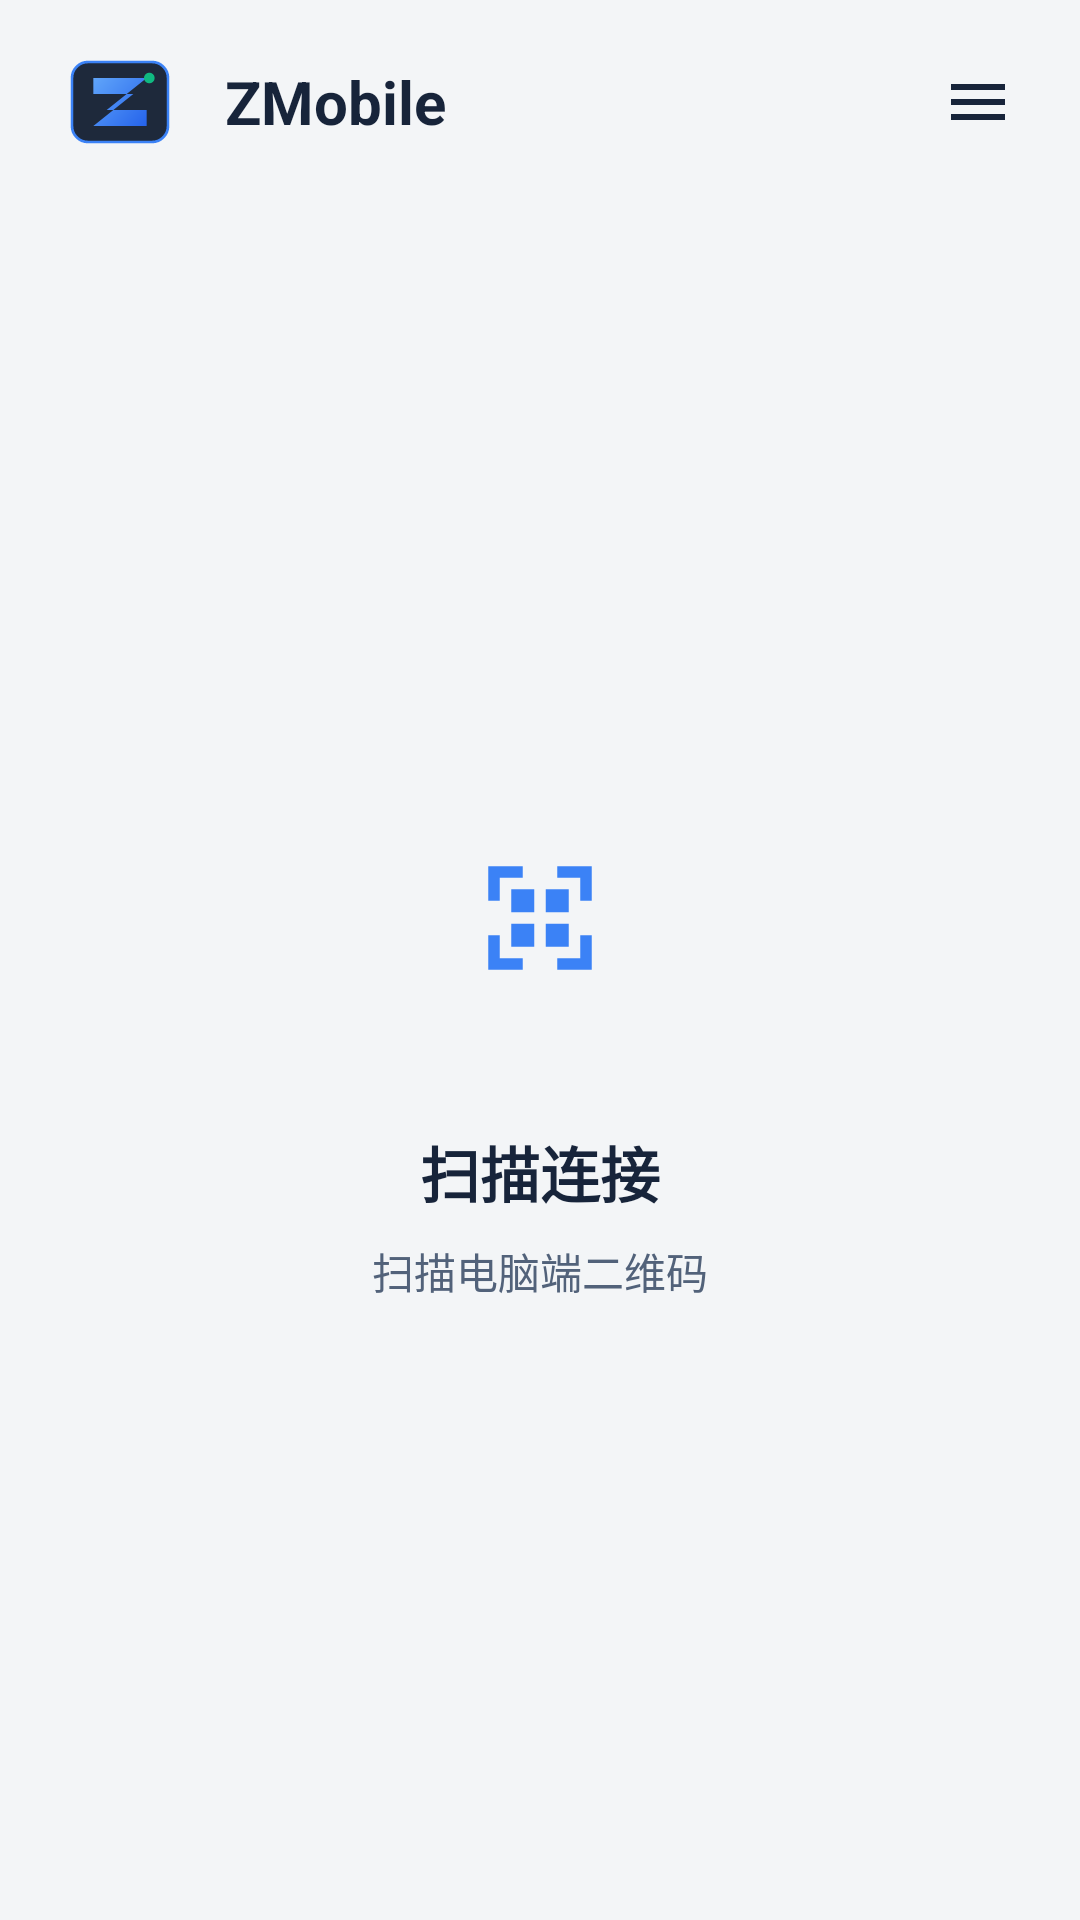

Locate icon controls on the screen. Image size 1080×1920, boxes as (x1, y1, x2, y2).
打开菜单: (951, 84, 1005, 120)
